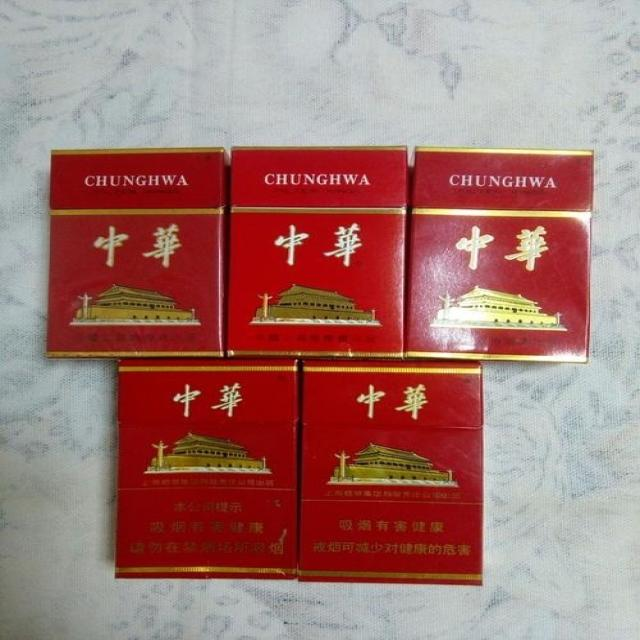box: (300, 361, 483, 585), (406, 146, 594, 364), (115, 360, 300, 581), (46, 148, 229, 362), (225, 146, 408, 359)
